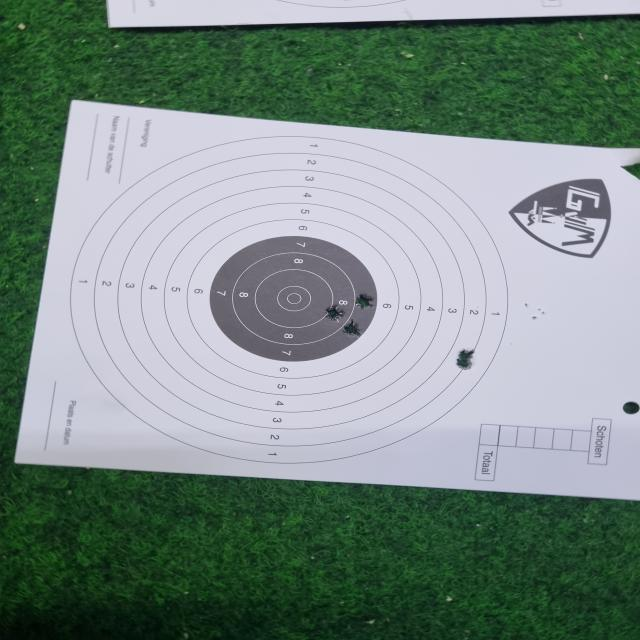10: (324, 306, 346, 321)
3: (458, 348, 476, 361), (456, 358, 472, 370)
8: (343, 318, 361, 338), (355, 294, 374, 310)
Black Contour: (210, 232, 382, 378)
Target: (68, 135, 510, 464)
